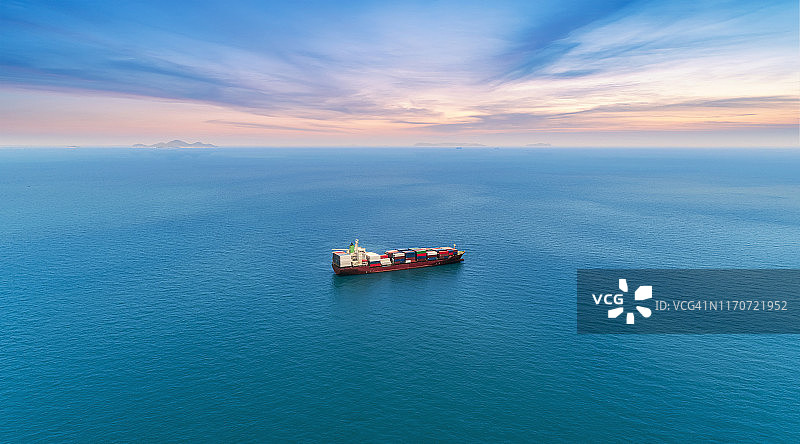ship: (322, 226, 469, 292)
